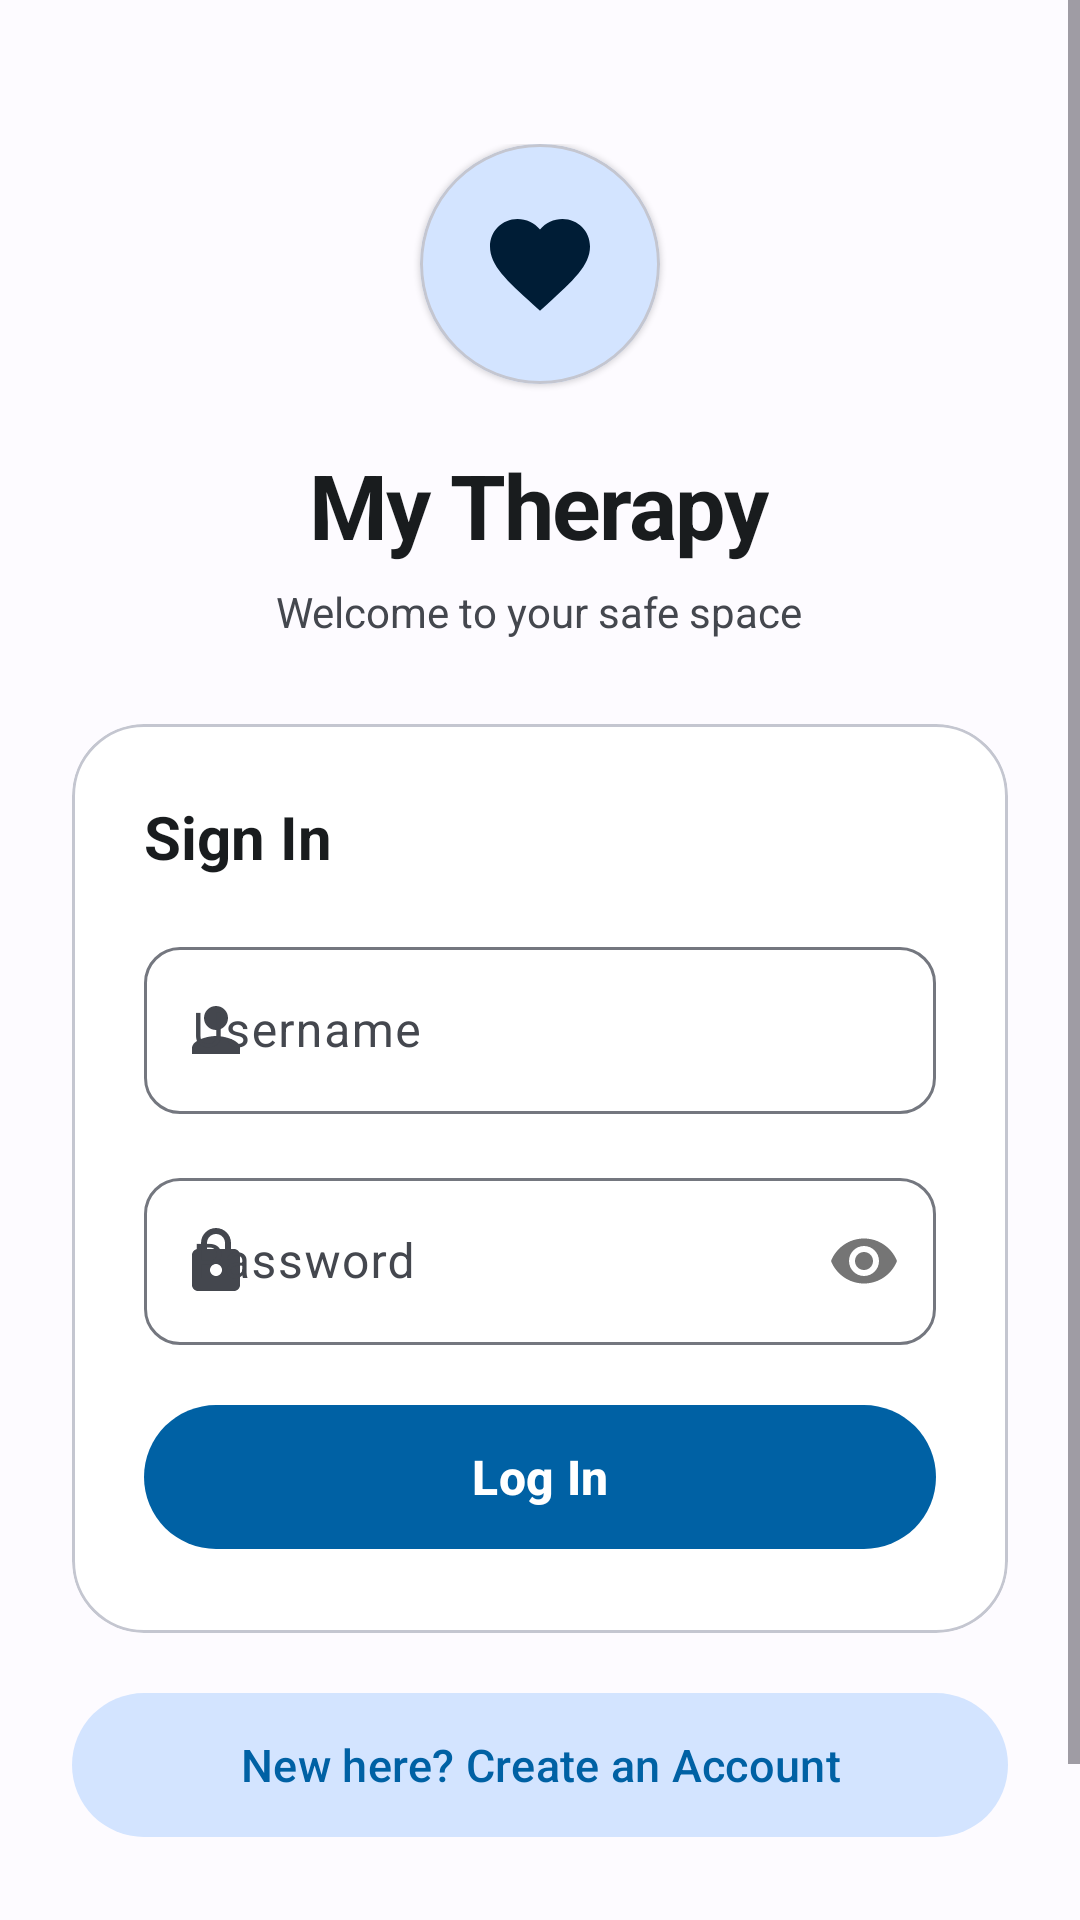

Icon bounding boxes for this 1080×1920 phone screenshot, format (x1, y1, x2, y2):
heart balance: (490, 219, 590, 311)
